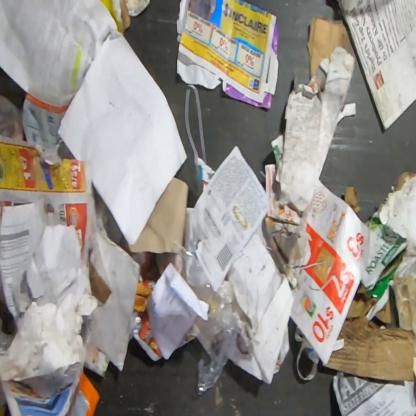cardboard: (289, 179, 384, 366), (275, 16, 356, 212), (324, 315, 415, 383), (129, 176, 190, 255)
soft_plastic: (173, 241, 253, 396), (361, 217, 408, 301), (184, 84, 208, 164), (293, 326, 318, 381)
